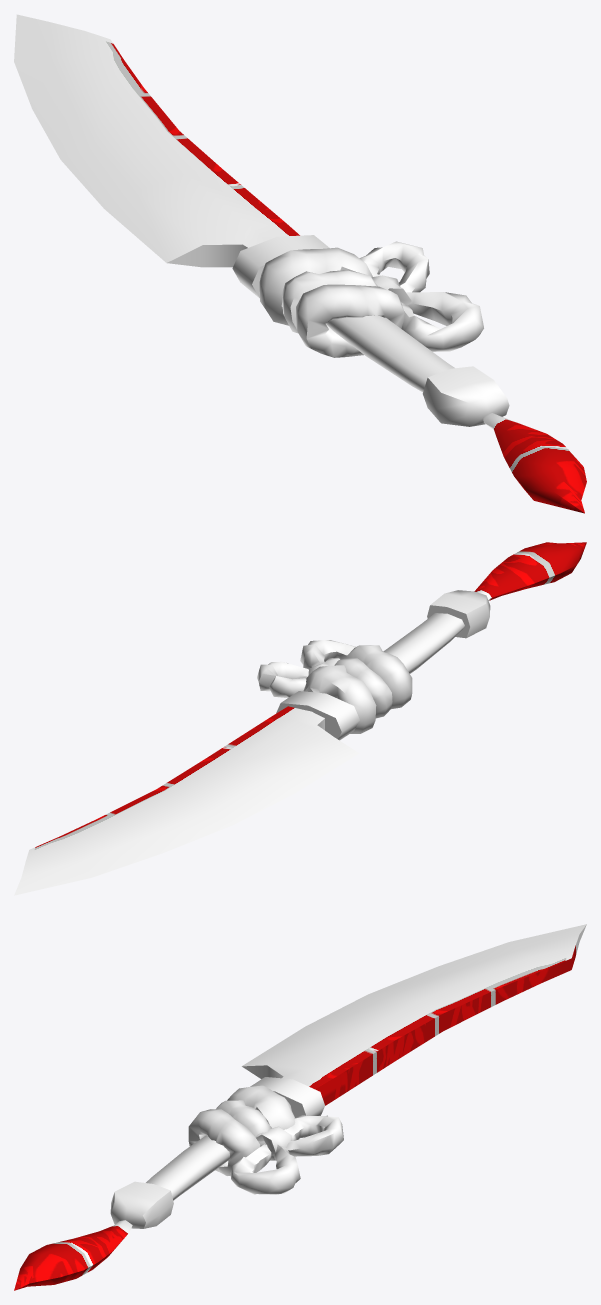
The model's file is sword_dullahan_double_dullahan_sword_w1.glb.
3 renders of one model, top to bottom at view 1: azimuth 30°, elevation 25°; view 2: azimuth 150°, elevation 25°; view 3: azimuth 330°, elevation 25°, orthographic. The views are drawn at different scales.
Size of the model in its own units: 0.2324 by 0.0795 by 1.34.
Materials: 1 (1 with a texture image).
